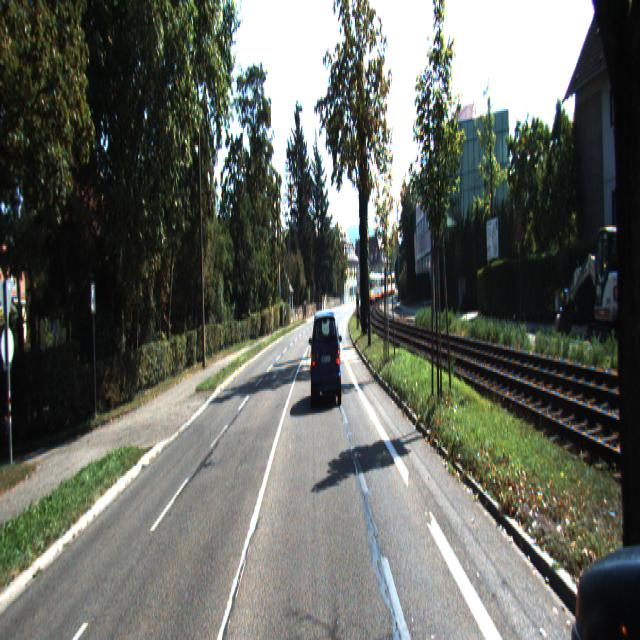Car: (570, 355, 640, 638), (594, 216, 636, 334), (310, 306, 343, 409)
